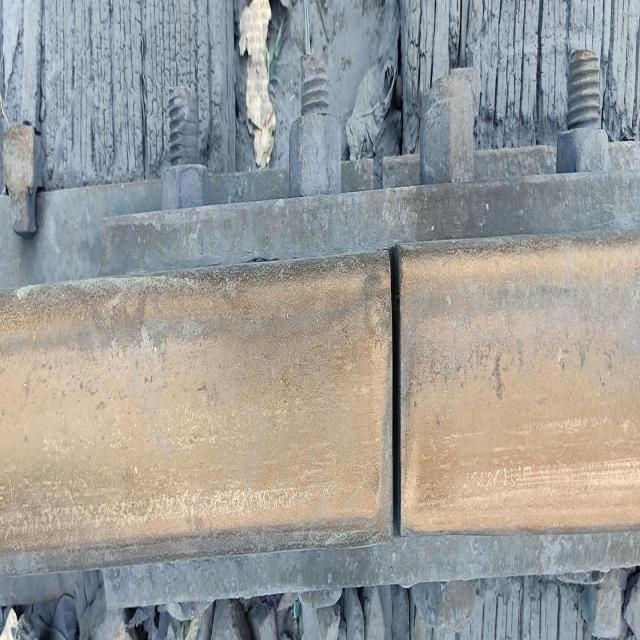Good Joint: (93, 40, 635, 612)
